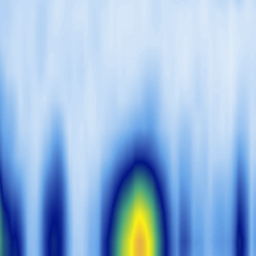defect: (102, 147, 172, 256), (1, 160, 18, 256), (45, 176, 64, 256), (236, 182, 248, 256)
